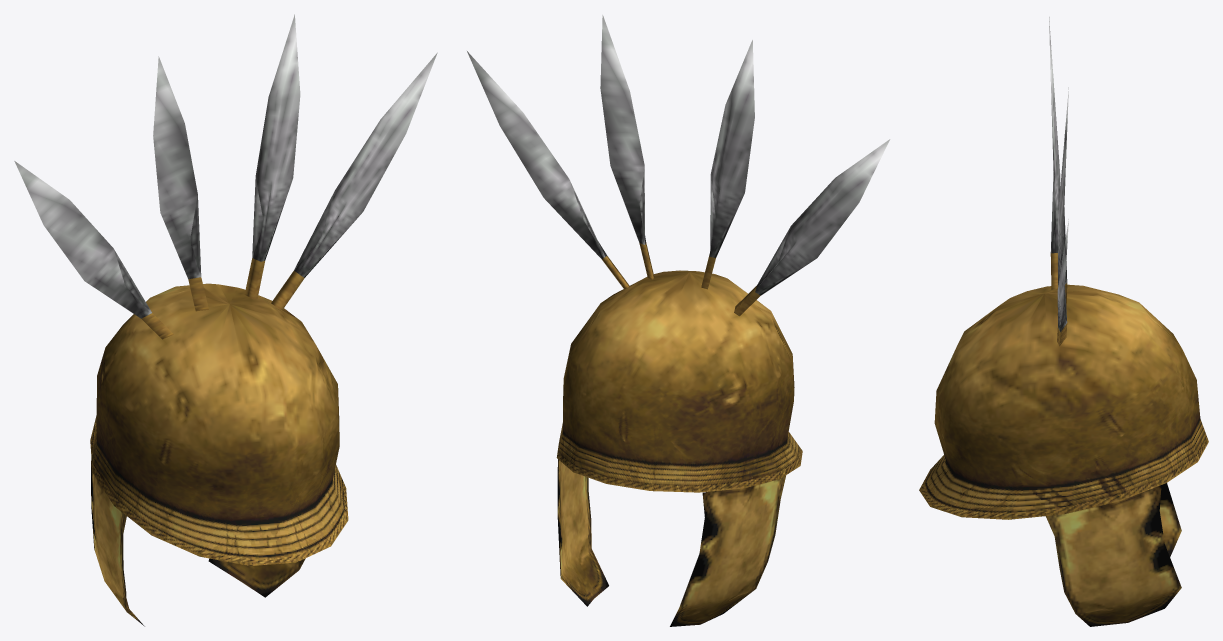
The model's file is helm_rome_helmet_montefortino_c.glb.
3 views of the same model, side by side, from view 1: azimuth 30°, elevation 25°; view 2: azimuth 150°, elevation 25°; view 3: azimuth 270°, elevation 25° (orthographic). The views are drawn at different scales.
Visible parts, largest first — view 1: helm_rome_helmet_montefortino_c_part0, helm_rome_helmet_montefortino_c_part3, helm_rome_helmet_montefortino_c_part4, helm_rome_helmet_montefortino_c_part2, helm_rome_helmet_montefortino_c_part1; view 2: helm_rome_helmet_montefortino_c_part0, helm_rome_helmet_montefortino_c_part1, helm_rome_helmet_montefortino_c_part2, helm_rome_helmet_montefortino_c_part4, helm_rome_helmet_montefortino_c_part3; view 3: helm_rome_helmet_montefortino_c_part0, helm_rome_helmet_montefortino_c_part2, helm_rome_helmet_montefortino_c_part3, helm_rome_helmet_montefortino_c_part4.
Boxes of the visible parts, x1=… form: helm_rome_helmet_montefortino_c_part0: x1=90, y1=283, x2=348, y2=626; helm_rome_helmet_montefortino_c_part3: x1=244, y1=14, x2=300, y2=299; helm_rome_helmet_montefortino_c_part4: x1=271, y1=52, x2=437, y2=310; helm_rome_helmet_montefortino_c_part2: x1=153, y1=56, x2=208, y2=311; helm_rome_helmet_montefortino_c_part1: x1=14, y1=161, x2=173, y2=339; helm_rome_helmet_montefortino_c_part0: x1=556, y1=270, x2=802, y2=626; helm_rome_helmet_montefortino_c_part1: x1=734, y1=139, x2=890, y2=316; helm_rome_helmet_montefortino_c_part2: x1=701, y1=40, x2=754, y2=289; helm_rome_helmet_montefortino_c_part4: x1=467, y1=51, x2=629, y2=289; helm_rome_helmet_montefortino_c_part3: x1=600, y1=15, x2=654, y2=279; helm_rome_helmet_montefortino_c_part0: x1=919, y1=284, x2=1208, y2=626; helm_rome_helmet_montefortino_c_part2: x1=1049, y1=18, x2=1060, y2=289; helm_rome_helmet_montefortino_c_part3: x1=1057, y1=87, x2=1068, y2=315; helm_rome_helmet_montefortino_c_part4: x1=1057, y1=219, x2=1068, y2=346.
Size of the model in its own units: 0.9566 by 1.24 by 0.5891.
2 materials, 2 textured.
